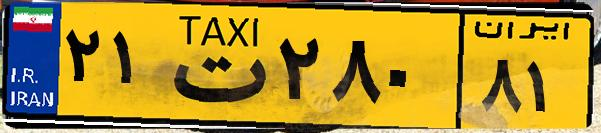0: (385, 28, 445, 110)
1: (525, 38, 570, 115), (110, 28, 158, 98)
2: (270, 28, 330, 110), (57, 26, 110, 100)
8: (330, 28, 385, 110), (475, 38, 525, 113)
ت: (158, 12, 270, 120)
